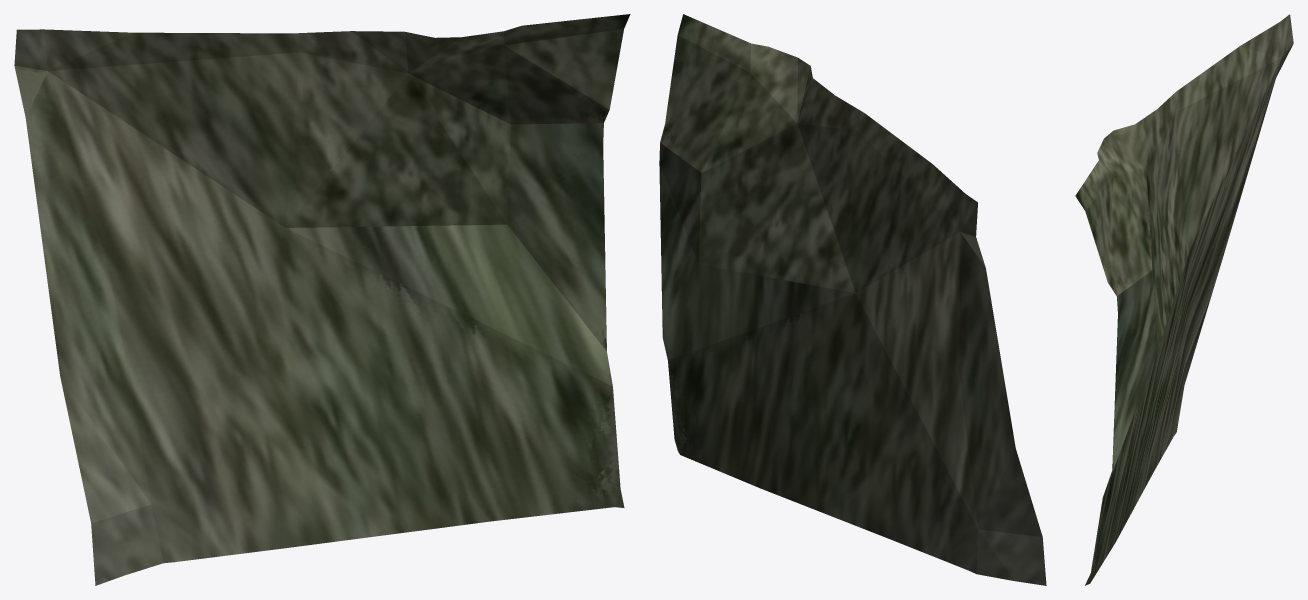
The picture shows the model from 3 angles, left to right: view 1: azimuth 30°, elevation 25°; view 2: azimuth 150°, elevation 25°; view 3: azimuth 270°, elevation 25°; orthographic projection. The views are drawn at different scales.
Bounding box in the file's own units: 2.95 × 2.95 × 1.5.
Materials: 3 (3 with a texture image).
